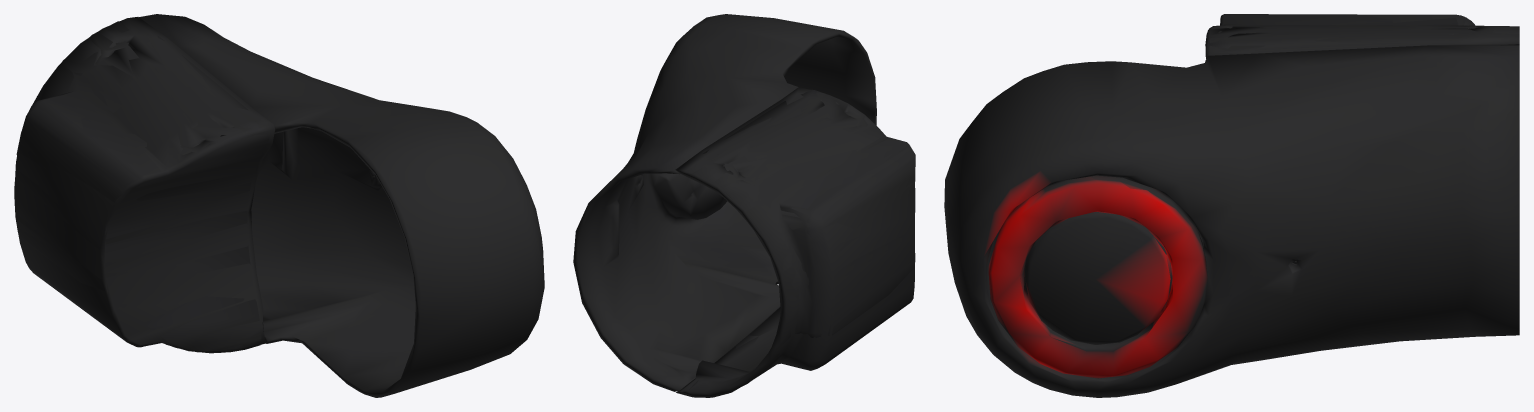
The model's file is arm_2.glb.
The picture shows the model from 3 angles, left to right: view 1: azimuth 30°, elevation 25°; view 2: azimuth 150°, elevation 25°; view 3: azimuth 270°, elevation 25°; orthographic projection. The views are drawn at different scales.
Parts seen in each view (by area): view 1: node; view 2: node; view 3: node.
Part boxes in pixels (x1,y1,x2,y2): node: (14,14,544,397); node: (573,14,915,397); node: (944,14,1519,397).
Size of the model in its own units: 0.1635 by 0.1181 by 0.2187.
